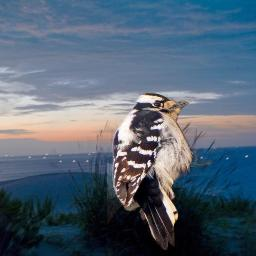Woodpecker: (107, 90, 214, 250)
